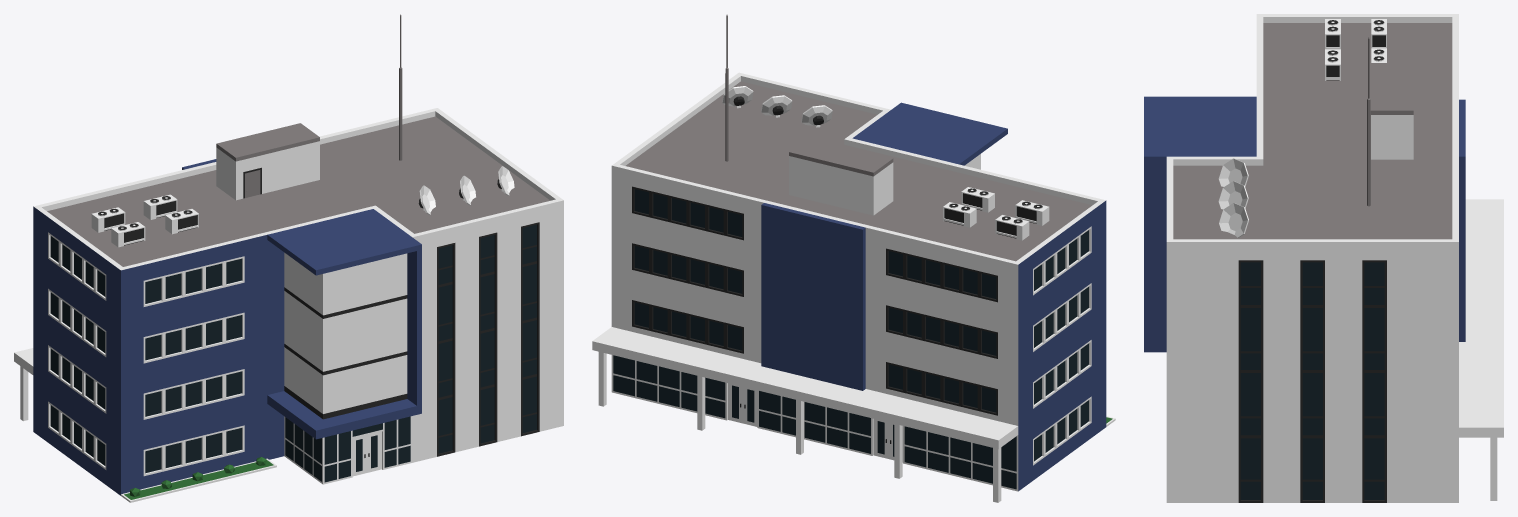
File: data-center.glb
3 renders of one model, left to right at view 1: azimuth 30°, elevation 25°; view 2: azimuth 150°, elevation 25°; view 3: azimuth 270°, elevation 25°, orthographic. The views are drawn at different scales.
Parts seen in each view (by area): view 1: data-center; view 2: data-center; view 3: data-center.
Part boxes in pixels (<box>): data-center: <box>14,14,563,502</box>; data-center: <box>592,14,1115,502</box>; data-center: <box>1144,14,1503,502</box>.
Size of the model in its own units: 24 by 20.79 by 16.
